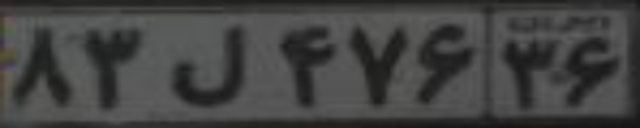3: (79, 26, 142, 108), (501, 39, 558, 109)
4: (275, 26, 334, 105)
6: (412, 24, 473, 104), (561, 37, 622, 105)
7: (345, 25, 409, 106)
8: (11, 26, 75, 106)
lam: (170, 24, 250, 106)
